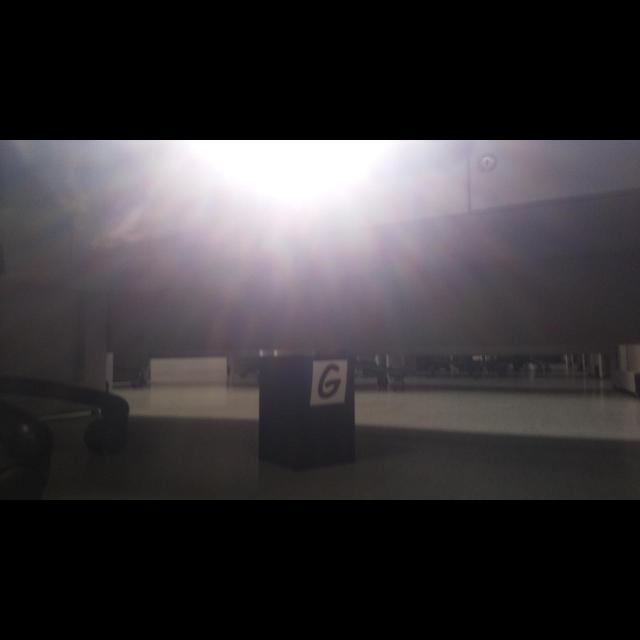G: (318, 364, 341, 398)
